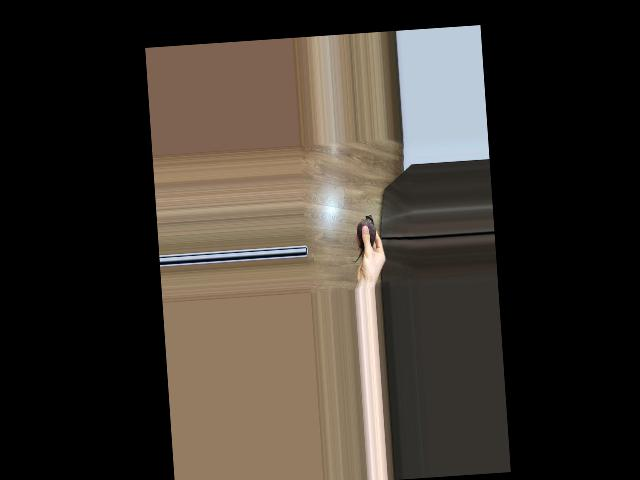beet: (349, 214, 377, 261)
